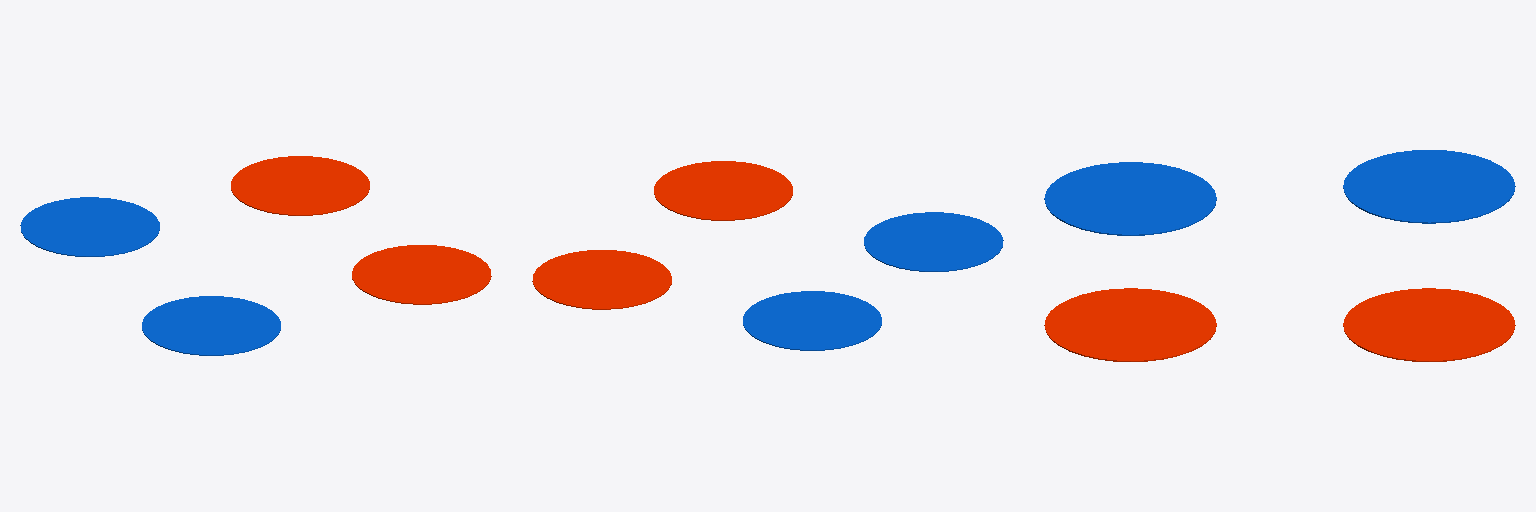
The robot description file, URDF, robot "RoboBee":
<?xml version="1.0" ?>

<robot name="RoboBee">

  <material name="white">
    <color rgba="1. 1. 1. 1.0"/>
  </material>

  <material name="black">
    <color rgba="0. 0. 0. 1.0"/>
  </material>

  <material name="blue0">
    <color rgba="15./255. 141./255. 238./255. 1.0"/>
  </material>

  <material name="darkgrey">
    <color rgba="0.4 0.4 0.4 1.0"/>
  </material>

  <material name="blue1">
    <color rgba="0.06 0.46 0.9 0.6"/>
  </material>

  <material name="orange_red">
    <color rgba="1 0.25 0 0.4"/>
  </material>

  <configuration type="quad"/>

  <properties arm="0.0635" kf="2.0e-8" km="2.74e-10" thrust2weight="2" max_speed_kmh="30" gnd_eff_coeff="11.36859" prop_radius="3.31348e-2" drag_coeff_xy="9.1785e-7" drag_coeff_z="10.311e-7" dw_coeff_1="2267.18" dw_coeff_2=".16" dw_coeff_3="-.11"/>

  <control>
    <indi actuator_nr="4" output_nr="4" />
    <indi_1 roll="  50.0  50.0 -50.0  -50.0" />
    <indi_2 pitch="-50.0  50.0  50.0  -50.0" />
    <indi_3 yaw="   -7.0   7.0  -7.0    7.0" />
    <indi_4 thrust=" 1.7   1.7   1.7    1.7" />

    <indi_guidance_gains>
      <pos kp="1.0" kd="2.2"/>
    </indi_guidance_gains>
    
    <indi_att_gains>
      <att  p="7." q="7." r="5." />
      <rate p="18." q="18." r="10." />
    </indi_att_gains>

    <pwm>
      <pwm2rpm scale="20000. 20000. 20000. 20000." const="0. 0. 0. 0." />
      <limit min="0  0  0  0" max="1  1  1  1" />
    </pwm>
  </control>


  <link name="base_link"> 

    <inertial>
      <origin rpy="0 0 0" xyz="0 0 0"/>
      <mass value="0.75"/>
      <inertia ixx="6.2e-4" ixy="0.0" ixz="0.0" iyy="6.2e-4" iyz="0.0" izz="1.1e-3"/>
    </inertial>

    <visual>
      <origin rpy="1.5708 0 0" xyz="0 0 0"/>
      <geometry>
        <mesh filename="./robobee.obj" scale="1. 1. 1."/>
      </geometry> 
      <material name="darkgrey"/>
    </visual>

    <collision>
      <origin rpy="0 0 0" xyz="0 0 0"/>
      <geometry>
        <cylinder radius="0.15" length=".1"/>
      </geometry>
    </collision>  

  </link>

  <link name="prop0_link">
    <inertial>
      <origin rpy="0 0 0" xyz="0.11 0.11 0"/>
      <mass value="0"/>
      <inertia ixx="0" ixy="0" ixz="0" iyy="0" iyz="0" izz="0"/>
    </inertial>
    <visual>
      <origin rpy="0 0 0" xyz="0.11 0.11 0.01"/>
      <geometry>
        <cylinder radius="0.0635" length=".001"/>
      </geometry>
      <material name="orange_red"/>
    </visual> 
  </link>
  <joint name="prop0_joint" type="fixed">
    <parent link="base_link"/>
    <child link="prop0_link"/>
  </joint>

  <link name="prop1_link">
    <inertial>
      <origin rpy="0 0 0" xyz="-0.11 0.11 0"/>
      <mass value="0"/>
      <inertia ixx="0" ixy="0" ixz="0" iyy="0" iyz="0" izz="0"/>
    </inertial>
    <visual>
      <origin rpy="0 0 0" xyz="-0.11 0.11 0.02"/>
      <geometry>
        <cylinder radius="0.0635" length=".001"/>
      </geometry>
      <material name="blue1"/>
    </visual> 
  </link>
  <joint name="prop1_joint" type="fixed">
    <parent link="base_link"/>
    <child link="prop1_link"/>
  </joint>

  <link name="prop2_link">
    <inertial>
      <origin rpy="0 0 0" xyz="-0.11 -0.11 0.03"/>
      <mass value="0"/>
      <inertia ixx="0" ixy="0" ixz="0" iyy="0" iyz="0" izz="0"/>
    </inertial>
    <visual>
      <origin rpy="0 0 0" xyz="-0.11 -0.11 0.01"/>
      <geometry>
        <cylinder radius="0.0635" length=".001"/>
      </geometry>
      <material name="blue1"/>
    </visual> 
  </link>
  <joint name="prop2_joint" type="fixed">
    <parent link="base_link"/>
    <child link="prop2_link"/>
  </joint>

  <link name="prop3_link">
    <inertial>
      <origin rpy="0 0 0" xyz="0.11 -0.11 0.04"/>
      <mass value="0"/>
      <inertia ixx="0" ixy="0" ixz="0" iyy="0" iyz="0" izz="0"/>
    </inertial>
    <visual>
      <origin rpy="0 0 0" xyz="0.11 -0.11 0.01"/>
      <geometry>
        <cylinder radius="0.0635" length=".001"/>
      </geometry>
      <material name="orange_red"/>
    </visual> 
  </link>
  <joint name="prop3_joint" type="fixed">
    <parent link="base_link"/>
    <child link="prop3_link"/>
  </joint>

  <link name="center_of_mass_link">
    <inertial>
      <origin rpy="0 0 0" xyz="0 0 0"/>
      <mass value="0"/>
      <inertia ixx="0" ixy="0" ixz="0" iyy="0" iyz="0" izz="0"/>
    </inertial>
  </link>
  <joint name="center_of_mass_joint" type="fixed">
    <parent link="base_link"/>
    <child link="center_of_mass_link"/>
  </joint>

</robot>

--- Facts derived from the render (not from the file) ---
Views: 3 orthographic renders of the robot side by side, from view 1: azimuth 30°, elevation 25°; view 2: azimuth 150°, elevation 25°; view 3: azimuth 270°, elevation 25°.
Robot: RoboBee — 6 links, 5 joints (5 fixed); root link base_link; default pose: all joints at 0.
Links seen in each view (by area): view 1: prop1_link, prop3_link, prop0_link, prop2_link; view 2: prop0_link, prop2_link, prop1_link, prop3_link; view 3: prop2_link, prop0_link, prop1_link, prop3_link.
Boxes of the visible links, box(x1,y1,x2,y2) form: prop1_link: box(20, 197, 159, 256); prop3_link: box(352, 245, 491, 304); prop0_link: box(231, 156, 369, 215); prop2_link: box(142, 296, 280, 355); prop0_link: box(532, 250, 671, 309); prop2_link: box(864, 212, 1003, 271); prop1_link: box(743, 291, 881, 350); prop3_link: box(654, 161, 792, 220); prop2_link: box(1044, 162, 1216, 235); prop0_link: box(1343, 288, 1515, 361); prop1_link: box(1343, 150, 1515, 223); prop3_link: box(1044, 288, 1216, 361).
Bounding box of the posed robot: 0.347 × 0.347 × 0.011 m (x, y, z).
0 mesh visuals loaded from 1 distinct referenced files (none loaded); not drawn: 1 (reference not matched to a file when rendering).